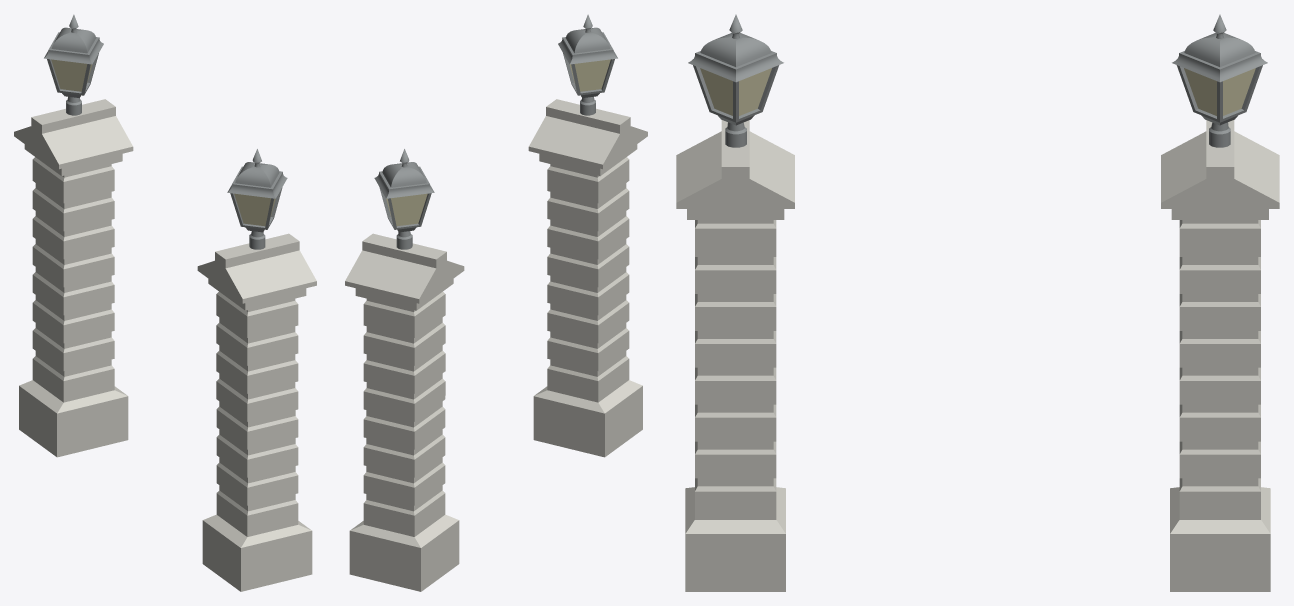
The model's file is gatePillars.fbx.
3 renders of one model, left to right at view 1: azimuth 30°, elevation 25°; view 2: azimuth 150°, elevation 25°; view 3: azimuth 270°, elevation 25°, orthographic. The views are drawn at different scales.
Visible parts, largest first — view 1: Cube, LaternPole_Asset; view 2: Cube, LaternPole_Asset; view 3: Cube, LaternPole_Asset.
Boxes of the visible parts, <box> form: Cube: <box>14,99,316,591</box>; LaternPole_Asset: <box>44,14,287,249</box>; Cube: <box>345,99,647,591</box>; LaternPole_Asset: <box>374,14,617,249</box>; Cube: <box>676,120,1279,591</box>; LaternPole_Asset: <box>688,14,1267,147</box>.
Size of the model in its own units: 75.18 by 402 by 408.
